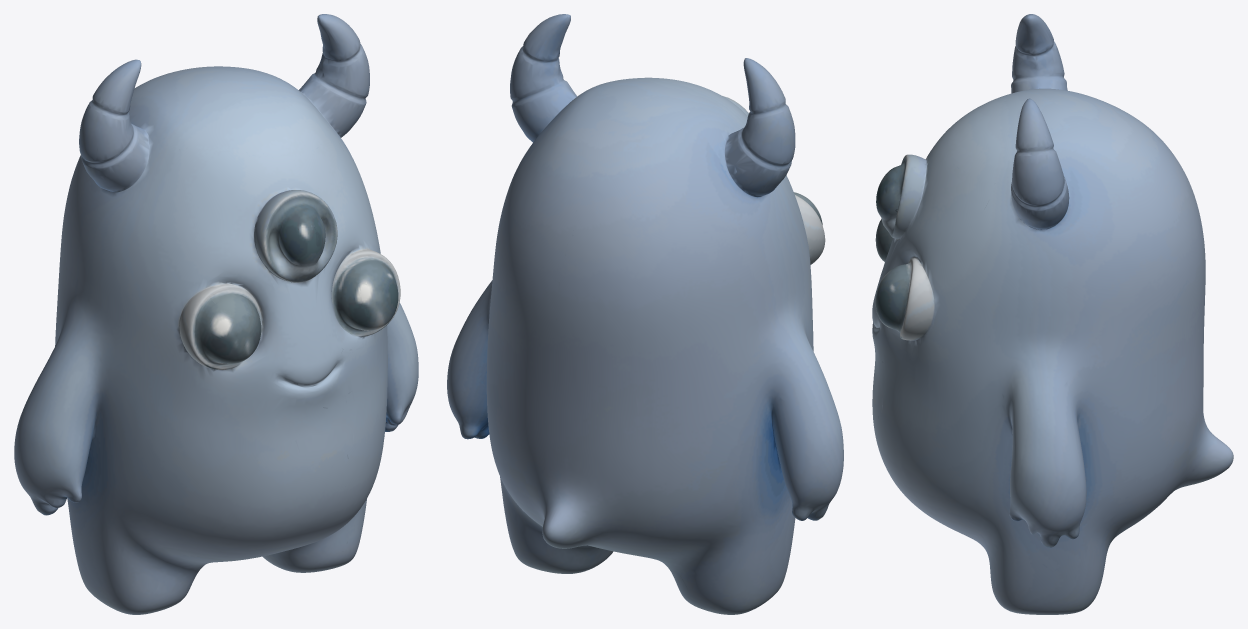
File: stage_5.glb
The picture shows the model from 3 angles, left to right: view 1: azimuth 30°, elevation 25°; view 2: azimuth 150°, elevation 25°; view 3: azimuth 270°, elevation 25°; orthographic projection. The views are drawn at different scales.
Visible parts, largest first — view 1: convert; view 2: convert; view 3: convert.
Part boxes in pixels (x1,y1,x2,y2): convert: [14, 14, 418, 614]; convert: [447, 14, 843, 614]; convert: [872, 14, 1233, 614].
Bounding box in the file's own units: 0.833 × 1.11 × 0.7137.
Materials: 1 (1 with a texture image).
